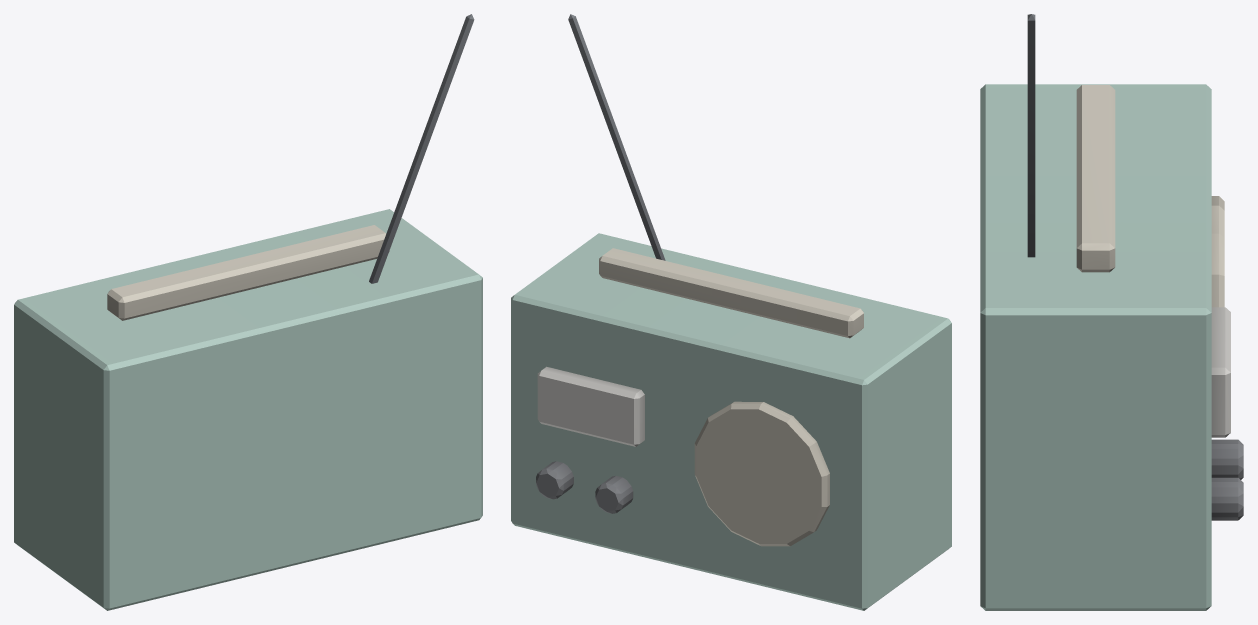
The model's file is furn_radio__mint.glb.
The picture shows the model from 3 angles, left to right: view 1: azimuth 30°, elevation 25°; view 2: azimuth 150°, elevation 25°; view 3: azimuth 270°, elevation 25°; orthographic projection. The views are drawn at different scales.
Size of the model in its own units: 0.4295 by 0.5182 by 0.205.
